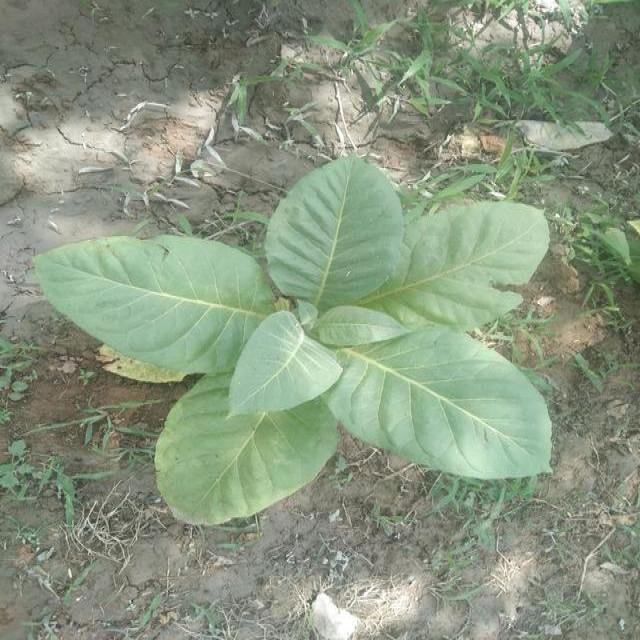crop: (42, 151, 559, 529)
